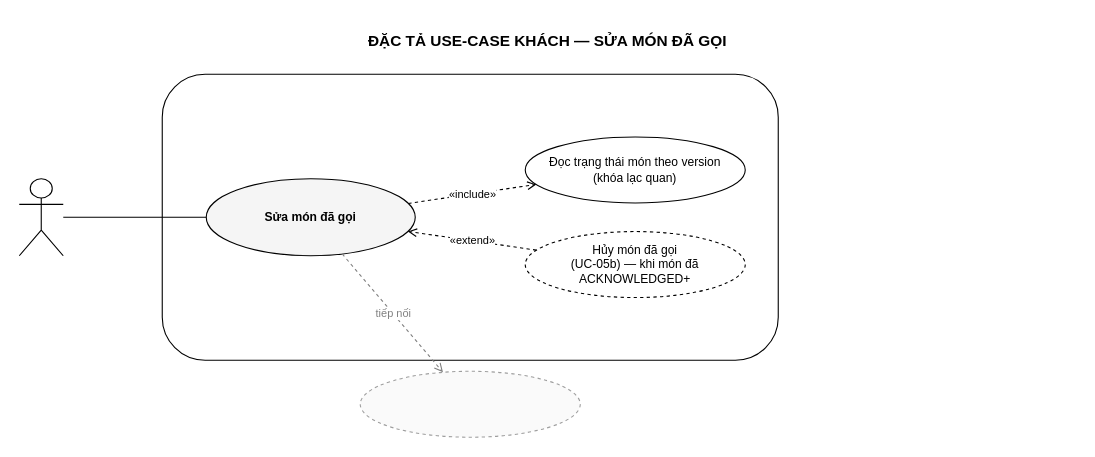
This 1095x457 diagram has some shape labels left out. The shapes that lost their labels are listed below. From the top down, each one's centre as x and y in pixels, then its label:
At point (40, 217): "Khách".
At point (469, 403): "Theo dõi trạng thái món (UC-06)".
